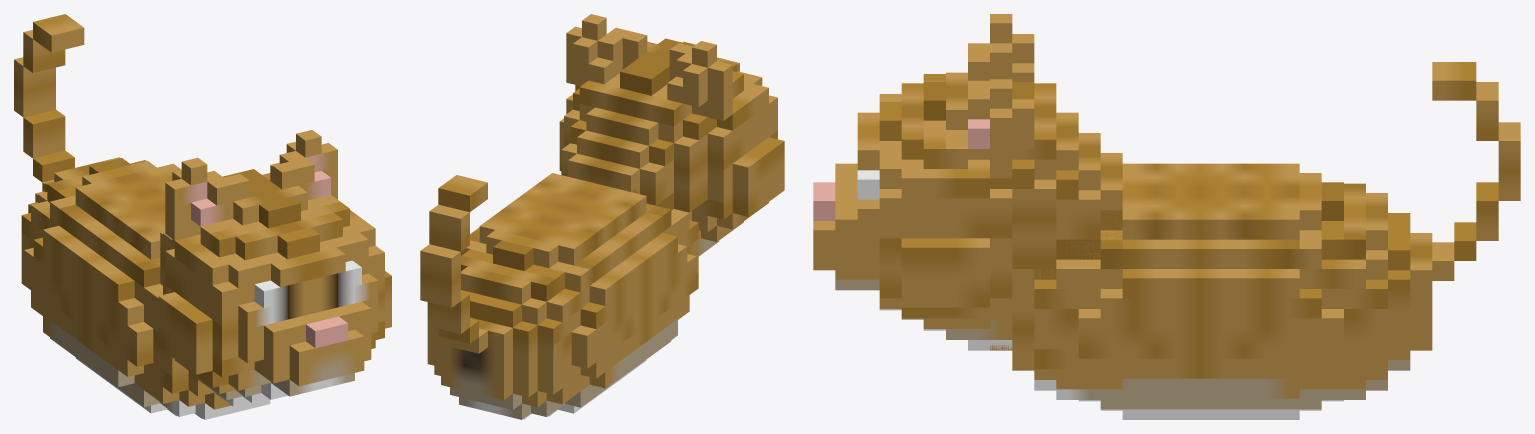
File: Cat.fbx
The picture shows the model from 3 angles, left to right: view 1: azimuth 30°, elevation 25°; view 2: azimuth 150°, elevation 25°; view 3: azimuth 270°, elevation 25°; orthographic projection. The views are drawn at different scales.
Visible parts, largest first — view 1: Head, Body, Tail; view 2: Body, Head, Tail; view 3: Body, Head, Tail.
Part boxes in pixels (x1,y1,x2,y2): Head: (156, 130, 391, 406); Body: (21, 157, 270, 419); Tail: (14, 14, 84, 191); Body: (427, 173, 698, 419); Head: (559, 14, 784, 256); Tail: (420, 175, 487, 353); Body: (990, 163, 1432, 419); Head: (813, 14, 1122, 350); Tail: (1432, 62, 1520, 280).
Bounding box in the file's own units: 12 × 17 × 32.
1 material, 1 textured.
